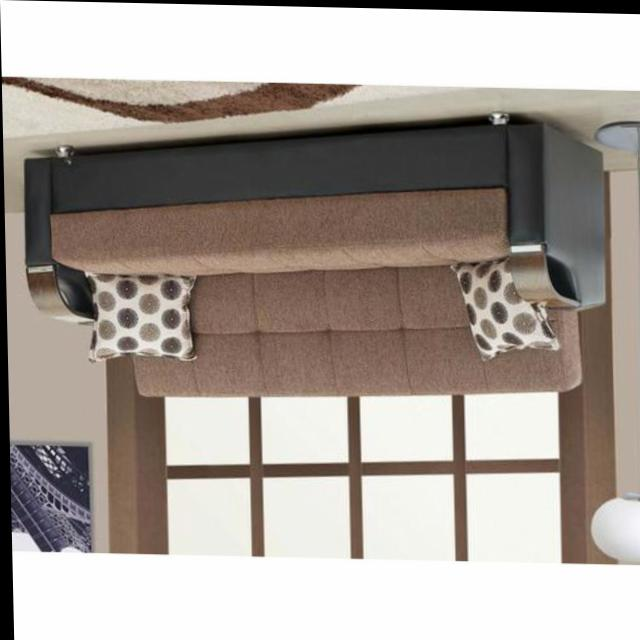Sofa: (21, 107, 607, 405)
